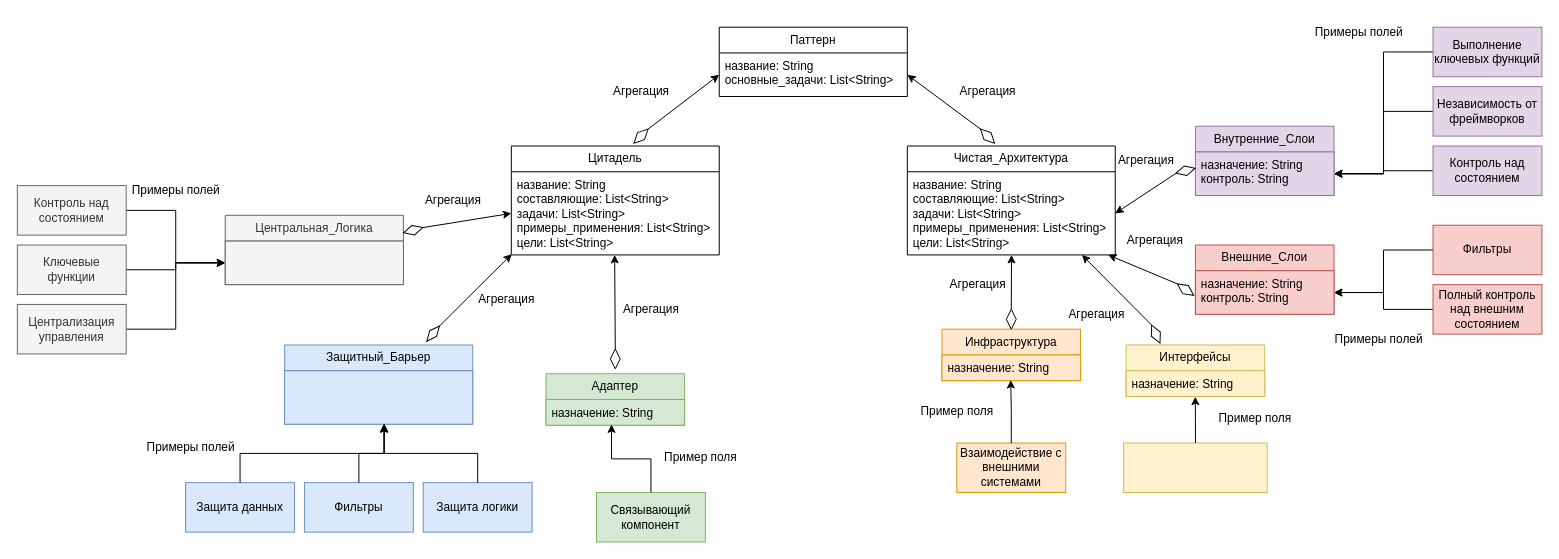
The diagram is 1559 pixels wide and 559 high, and some of its shapes have lost their labels. Here are the shapes that lost their labels. From the top down, the centre of each, then its label:
At point 313,262: "назначение: String связь_с_управлением: String".
At point 378,397: "назначение: String связь_с_безопасностью: String".
At point 1195,467: "Связь между внутренней логикой и внешними системами".
